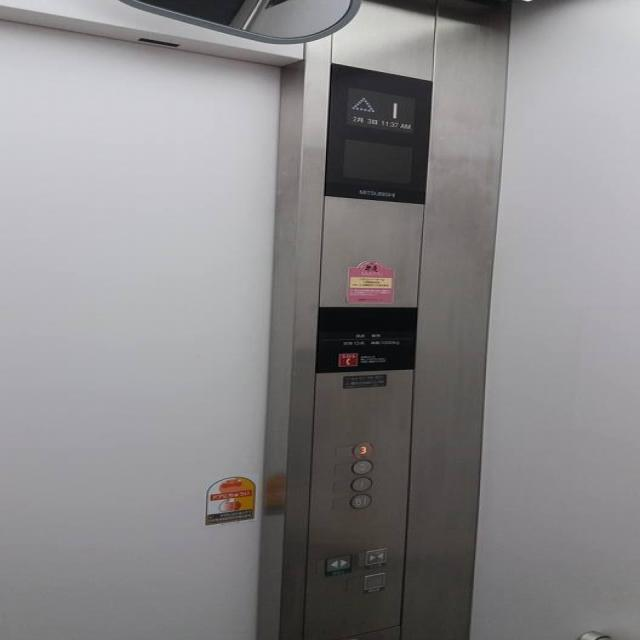1: (349, 476, 373, 491)
2: (349, 459, 373, 474)
3: (349, 441, 373, 458)
B1: (349, 493, 371, 508)
call: (334, 351, 358, 366)
close: (361, 547, 387, 567)
empty: (361, 572, 387, 592)
led: (324, 60, 430, 204), (312, 305, 418, 333)
open: (322, 554, 353, 573)
